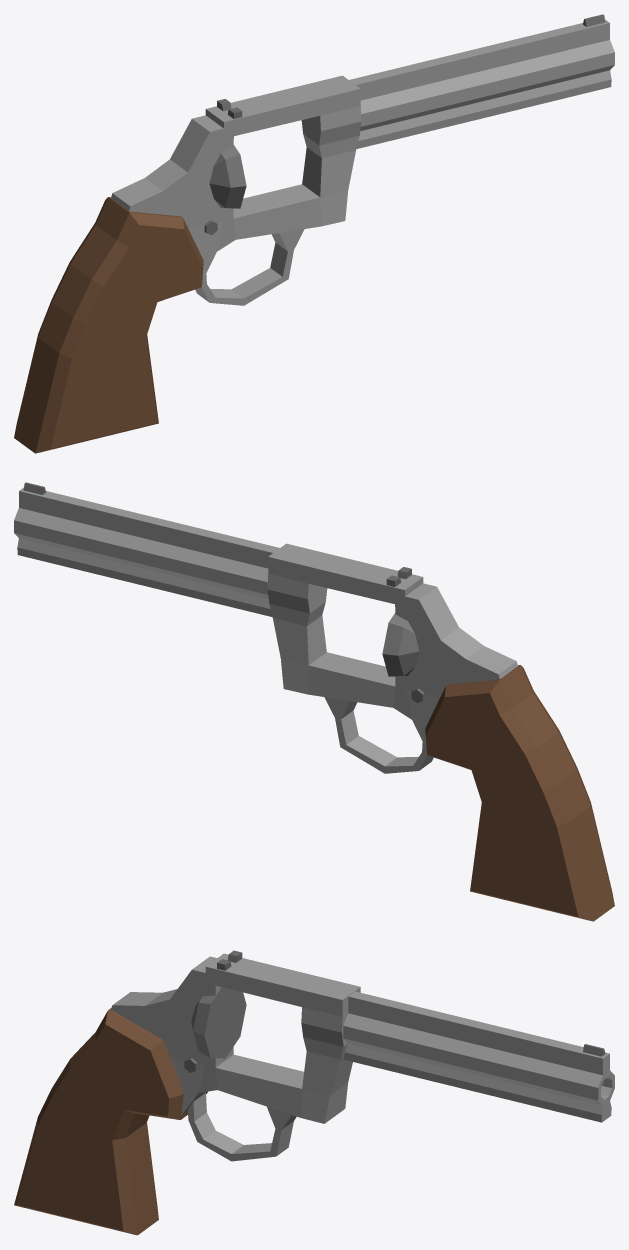
File: Pistol5_01.fbx
3 renders of one model, top to bottom at view 1: azimuth 30°, elevation 25°; view 2: azimuth 150°, elevation 25°; view 3: azimuth 330°, elevation 25°, orthographic.
Visible parts, largest first — view 1: Pistol5_01; view 2: Pistol5_01; view 3: Pistol5_01.
Part boxes in pixels (x1=…): Pistol5_01: x1=14, y1=14, x2=614, y2=453; Pistol5_01: x1=14, y1=482, x2=614, y2=921; Pistol5_01: x1=14, y1=950, x2=614, y2=1235.
Bounding box in the file's own units: 0.3781 × 0.18 × 0.0474.
